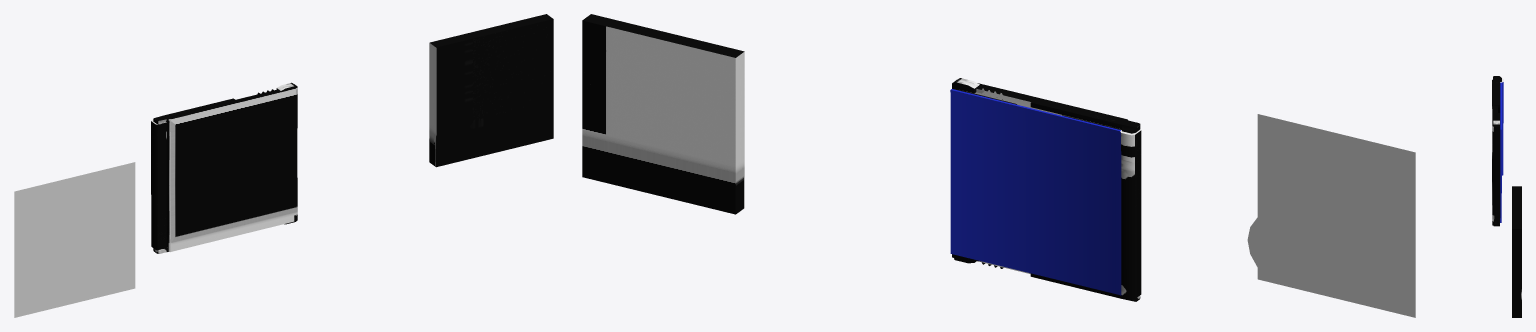
The model's file is SopCD.fbx.
3 renders of one model, left to right at view 1: azimuth 30°, elevation 25°; view 2: azimuth 150°, elevation 25°; view 3: azimuth 270°, elevation 25°, orthographic. The views are drawn at different scales.
Visible parts, largest first — view 1: Cube.002, Cube.001, CDPlane, Cube; view 2: Cube, Cube.001, CDPlane, Plane.001, Cube.002; view 3: Cube.001, Cube.002, Cube.
Part boxes in pixels (x1,y1,x2,y2): Cube.002: (153,82,297,253); Cube.001: (429,14,553,167); CDPlane: (14,162,135,317); Cube: (151,119,167,250); Cube: (950,89,1141,299); Cube.001: (582,14,744,214); CDPlane: (1257,114,1415,317); Plane.001: (1247,212,1314,283); Cube.002: (952,78,1140,301); Cube.001: (1512,186,1521,317); Cube.002: (1492,76,1501,226); Cube: (1498,78,1503,222).
Bounding box in the file's own units: 2043 × 454 × 317.
Materials: 3 (1 with a texture image).
